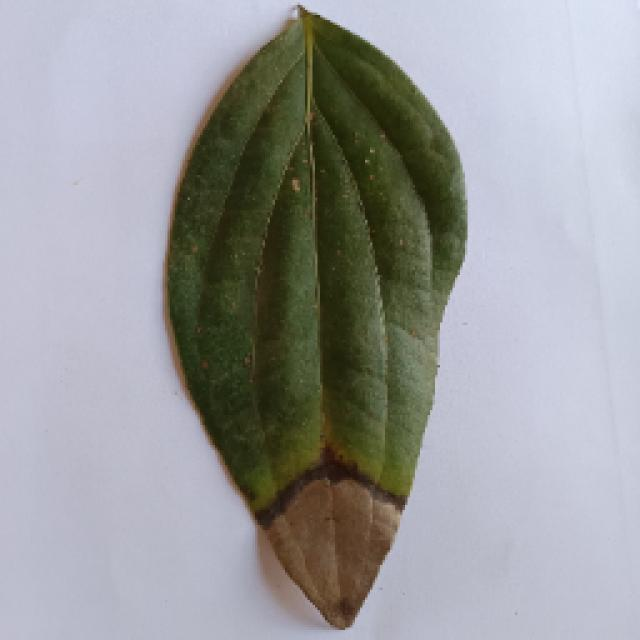footrot: (160, 13, 468, 625)
